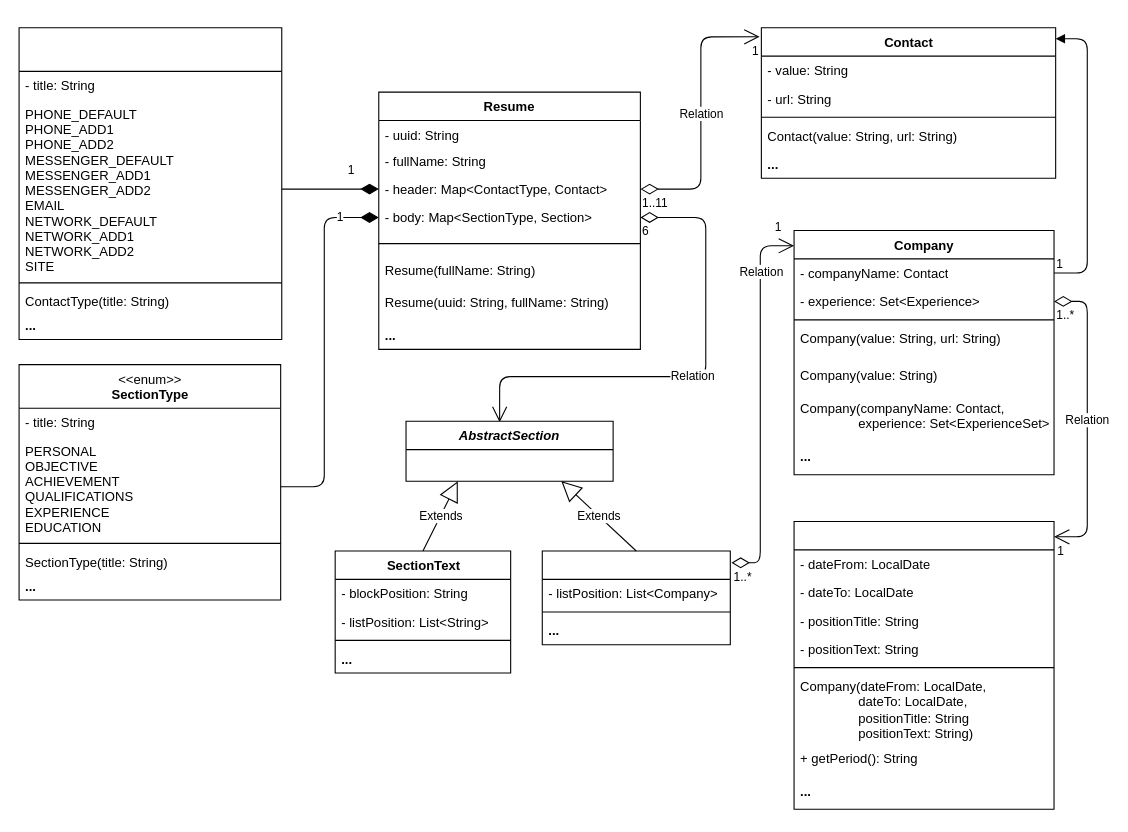
The diagram is 1128 pixels wide and 832 high, and some of its shapes have lost their labels. Here are the shapes that lost their labels. From the top down, the box of each, then its label:
(18, 27, 282, 340): <<enum>> ContactType
(541, 550, 730, 645): SectionCompany
(793, 520, 1054, 809): Experience
